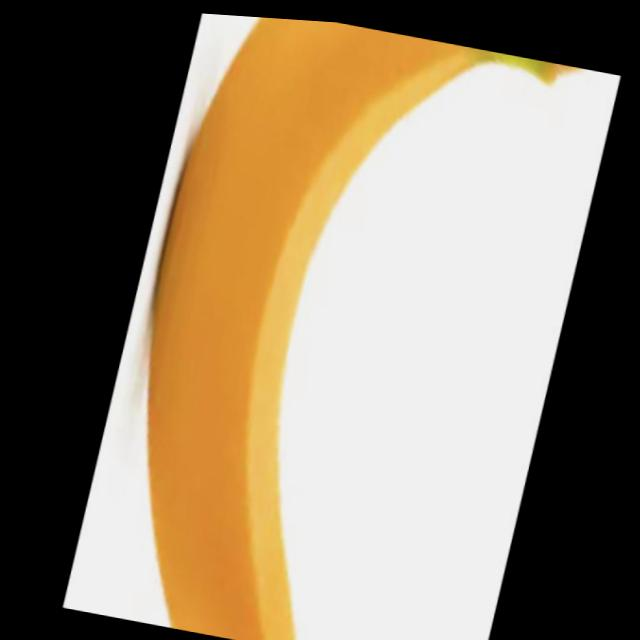Banana: (91, 5, 635, 640)
